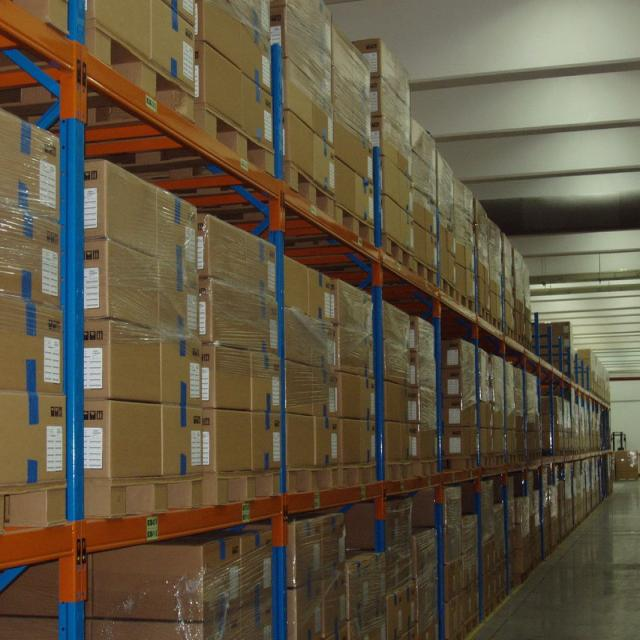Palette: (84, 22, 196, 126), (93, 464, 278, 517), (203, 107, 274, 181), (282, 163, 334, 217), (334, 200, 380, 256), (290, 468, 374, 491), (383, 228, 414, 273), (384, 458, 438, 482), (442, 273, 476, 311), (441, 456, 478, 481), (417, 254, 439, 294)
